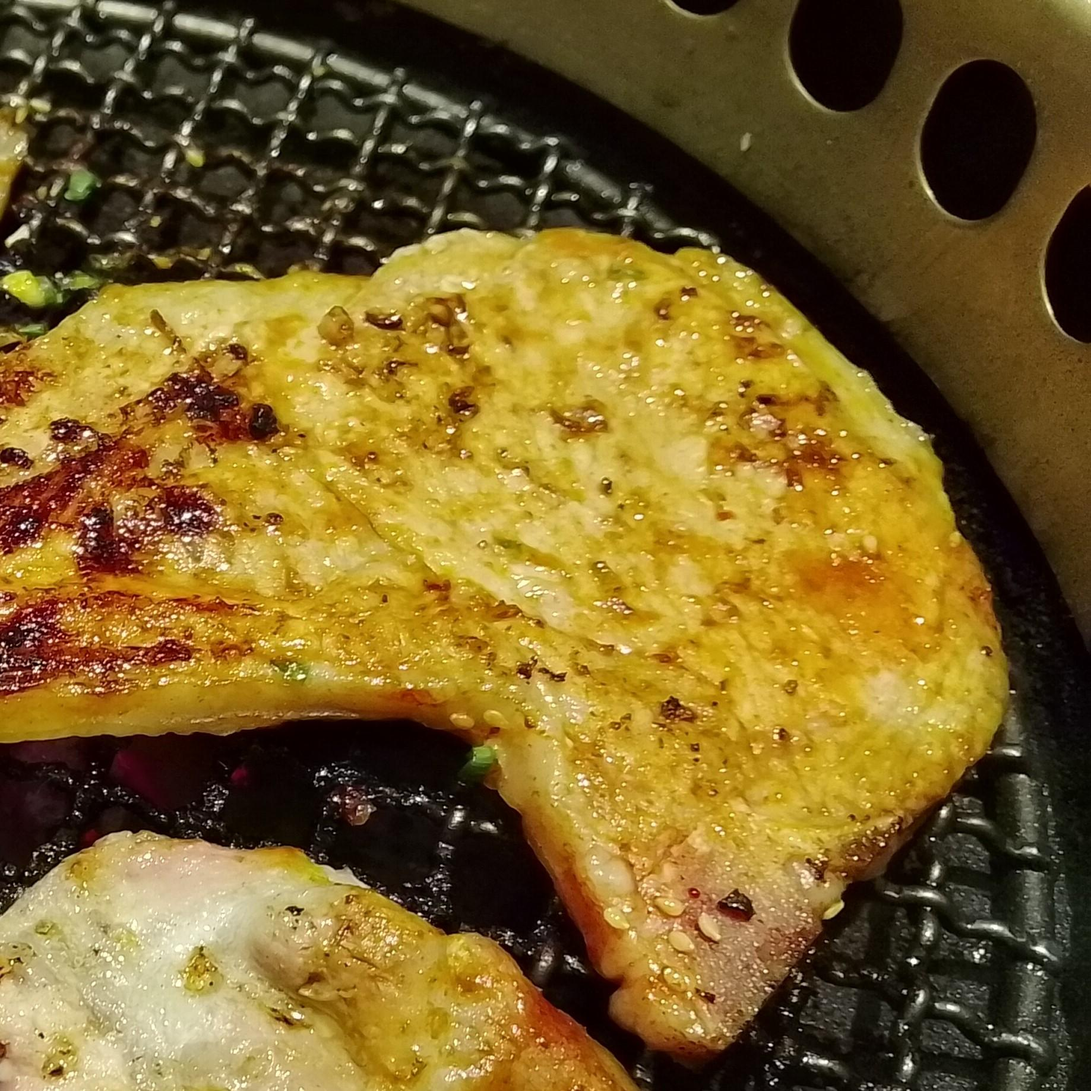Well-Cooked: (0, 226, 1012, 1077), (0, 831, 641, 1090)
